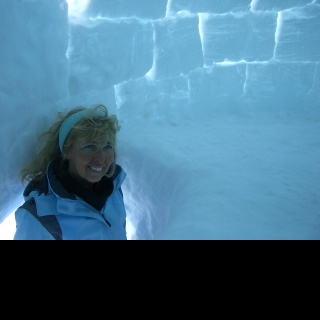without_mask: (73, 139, 114, 182)
